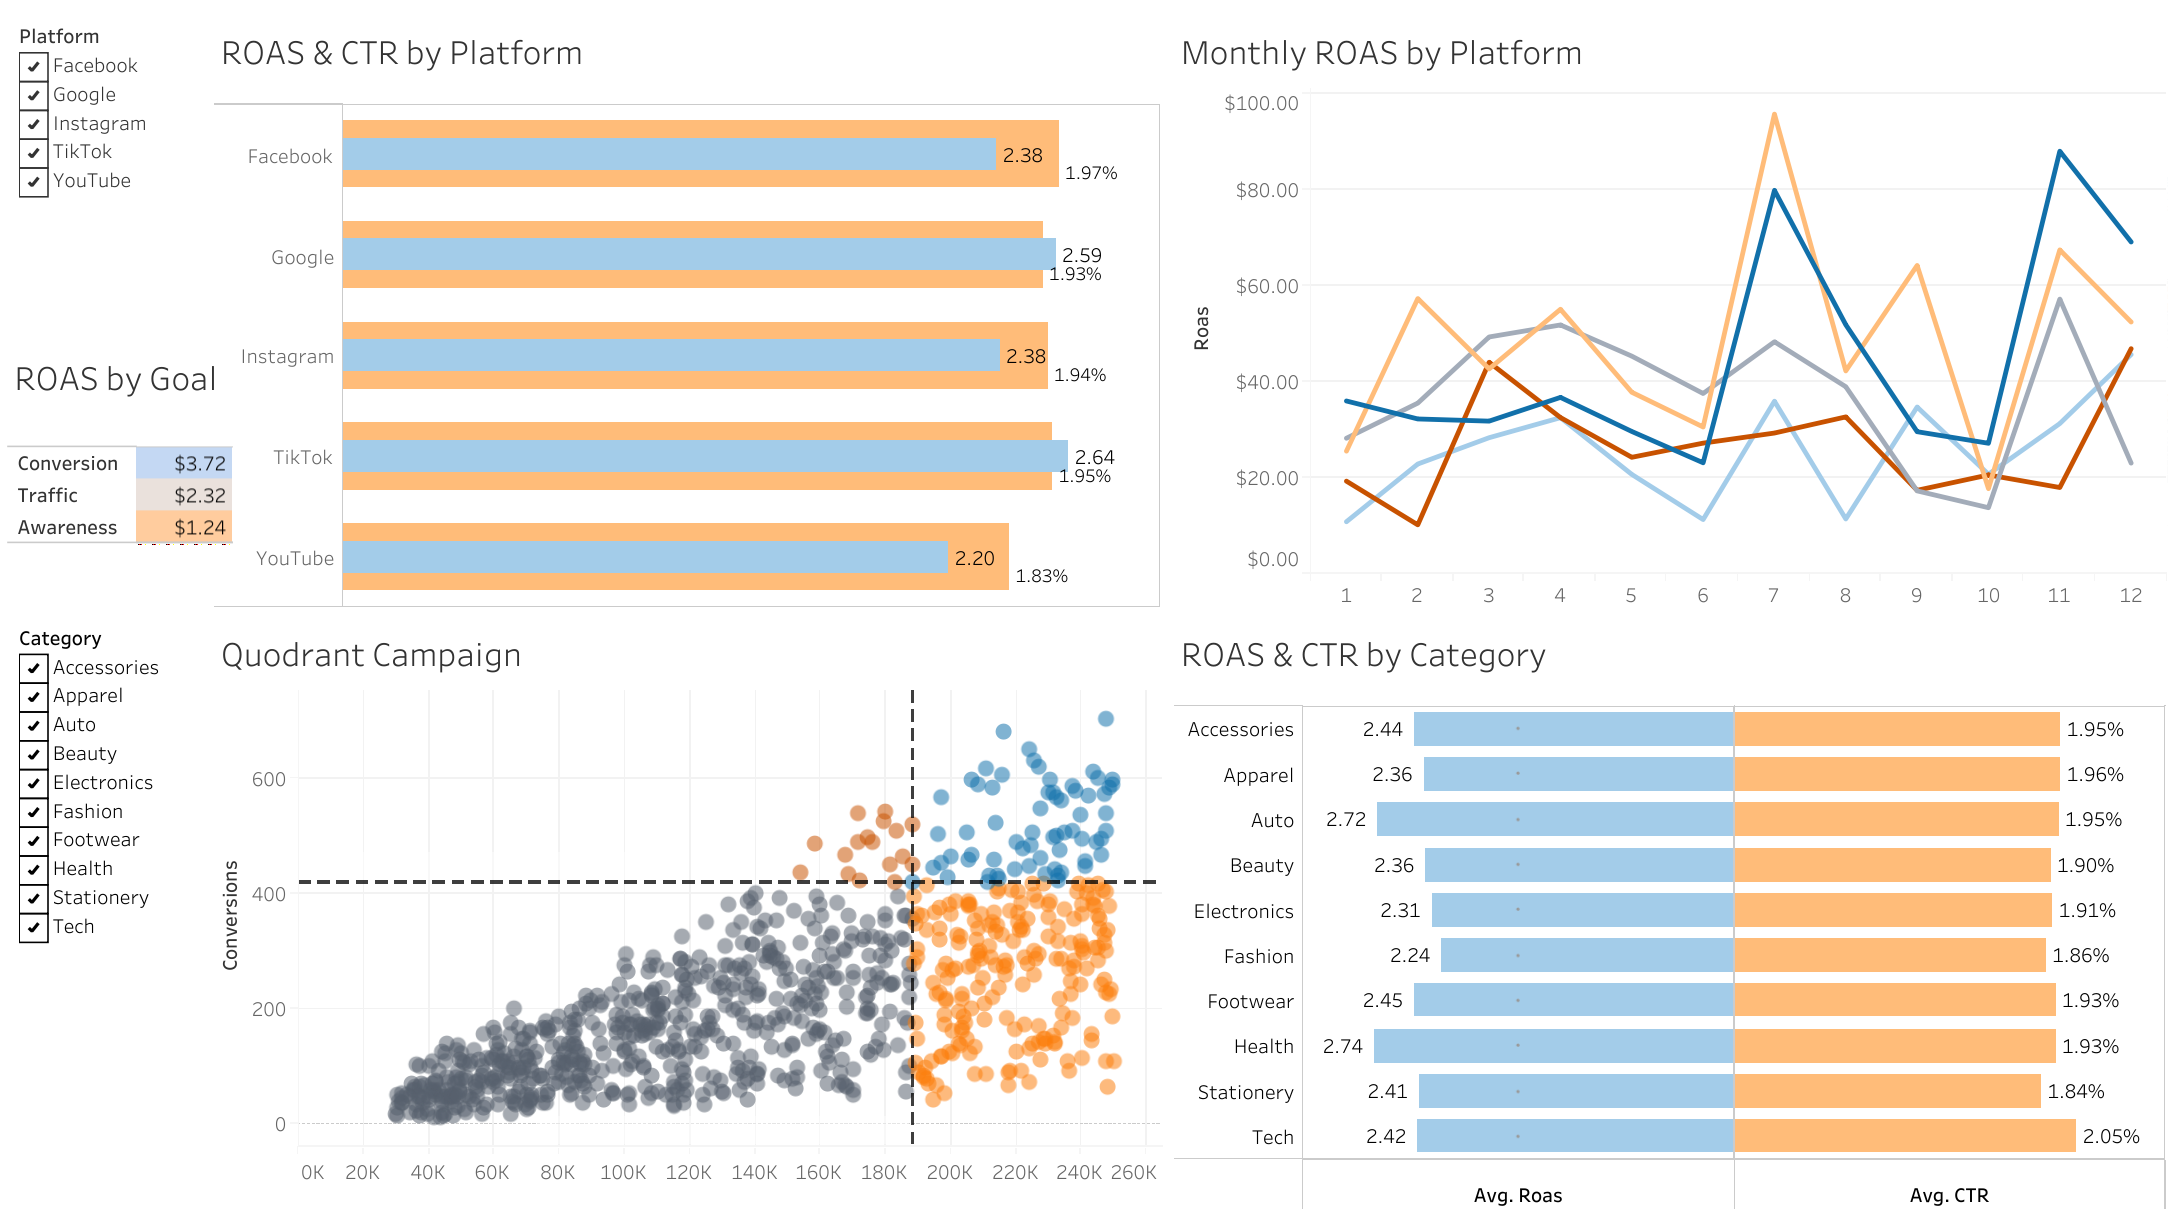

The page's visual inventory and layout, read from the dashboard file:
{"tool":"tableau","page":{"name":"Platform & Category","canvas":[1366,768],"ordinal":0},"visuals":[{"type":"filter","title":"ROAS & CTR by Platform","param":"[federated.0b2nrc71b6d82w132by3p0tbtul9].[none:Ad Name - Split 1:nk]","box":[8,8,122,376]},{"type":"worksheet","title":"ROAS & CTR by Platform","mark":"Bar","rows":["Ad Name - Split 1"],"cols":["Calculation_4709850444593106956","ROAS"],"box":[130,8,600,376]},{"type":"worksheet","title":"Monthly ROAS by Platform","mark":"Automatic","rows":["ROAS"],"cols":["Date"],"box":[730,8,628,376]},{"type":"worksheet","title":"ROAS by Goal","mark":"Square","rows":["Ad Name - Split 4"],"box":[5,216,411,256]},{"type":"filter","title":"ROAS & CTR by Category","param":"[federated.0b2nrc71b6d82w132by3p0tbtul9].[none:Ad Name - Split 3:nk]","box":[8,384,122,376]},{"type":"worksheet","title":"Quodrant Campaign","mark":"Circle","rows":["Conversions"],"cols":["Impressions"],"box":[130,384,600,376]},{"type":"worksheet","title":"ROAS & CTR by Category","mark":"Bar","rows":["Ad Name - Split 3"],"cols":["ROAS","Calculation_4709850444587769866","Calculation_4709850444593106956"],"box":[730,384,628,376]}]}

Visuals, with their boxes in screenshot pixels (x1, y1, x2, y2), scaled from the page's 1366x768 canvas onto the 2184x1227 screenshot:
"ROAS & CTR by Platform" filter: (left=13, top=13, right=208, bottom=614)
"ROAS & CTR by Platform" worksheet (Bar marks): (left=208, top=13, right=1167, bottom=614)
"Monthly ROAS by Platform" worksheet: (left=1167, top=13, right=2171, bottom=614)
"ROAS by Goal" worksheet (Square marks): (left=8, top=345, right=665, bottom=754)
"ROAS & CTR by Category" filter: (left=13, top=614, right=208, bottom=1214)
"Quodrant Campaign" worksheet (Circle marks): (left=208, top=614, right=1167, bottom=1214)
"ROAS & CTR by Category" worksheet (Bar marks): (left=1167, top=614, right=2171, bottom=1214)
